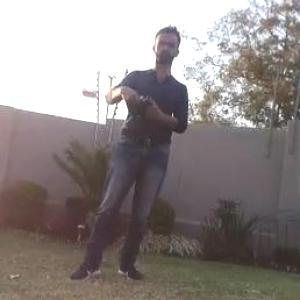follow: (64, 17, 191, 286)
